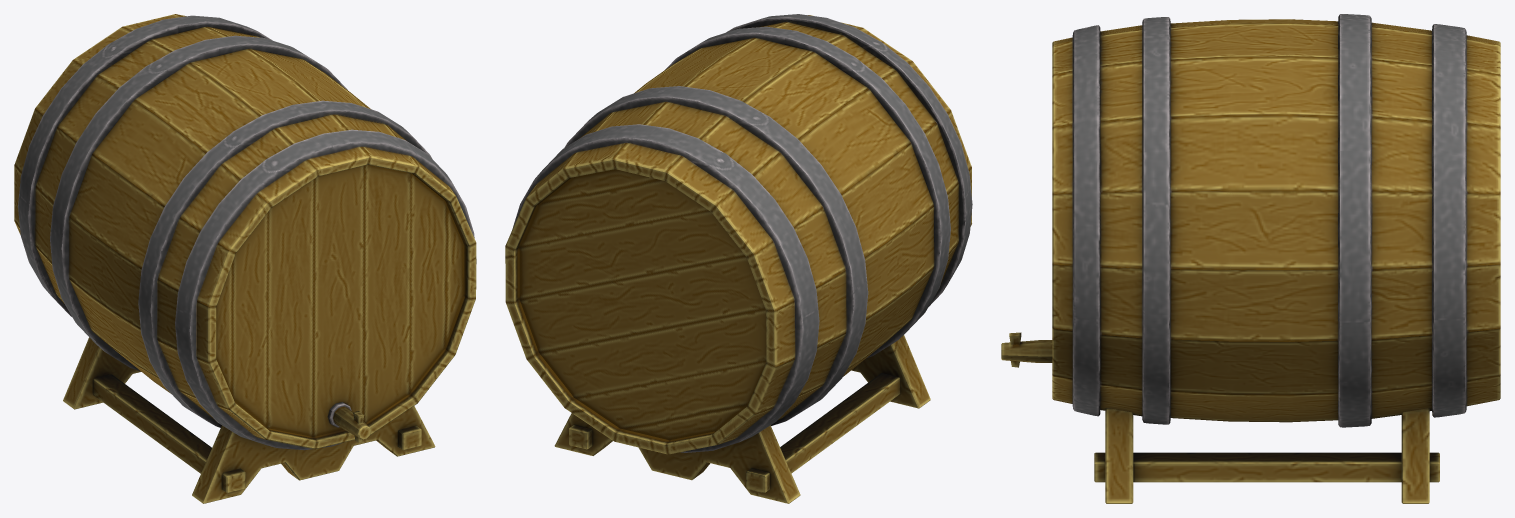
File: WineBarrelTris_Winebarrel_Low_Baked.fbx
3 renders of one model, left to right at view 1: azimuth 30°, elevation 25°; view 2: azimuth 150°, elevation 25°; view 3: azimuth 270°, elevation 25°, orthographic. The views are drawn at different scales.
Parts seen in each view (by area): view 1: WineBarrelTris_Winebarrel_Low_Baked_LOD0; view 2: WineBarrelTris_Winebarrel_Low_Baked_LOD0; view 3: WineBarrelTris_Winebarrel_Low_Baked_LOD0.
Boxes of the visible parts, left/top/right/bottom form: WineBarrelTris_Winebarrel_Low_Baked_LOD0: left=14, top=14, right=476, bottom=503; WineBarrelTris_Winebarrel_Low_Baked_LOD0: left=505, top=14, right=972, bottom=503; WineBarrelTris_Winebarrel_Low_Baked_LOD0: left=1001, top=14, right=1500, bottom=503.
Bounding box in the file's own units: 92.35 × 111 × 99.9.
Materials: 1 (1 with a texture image).
